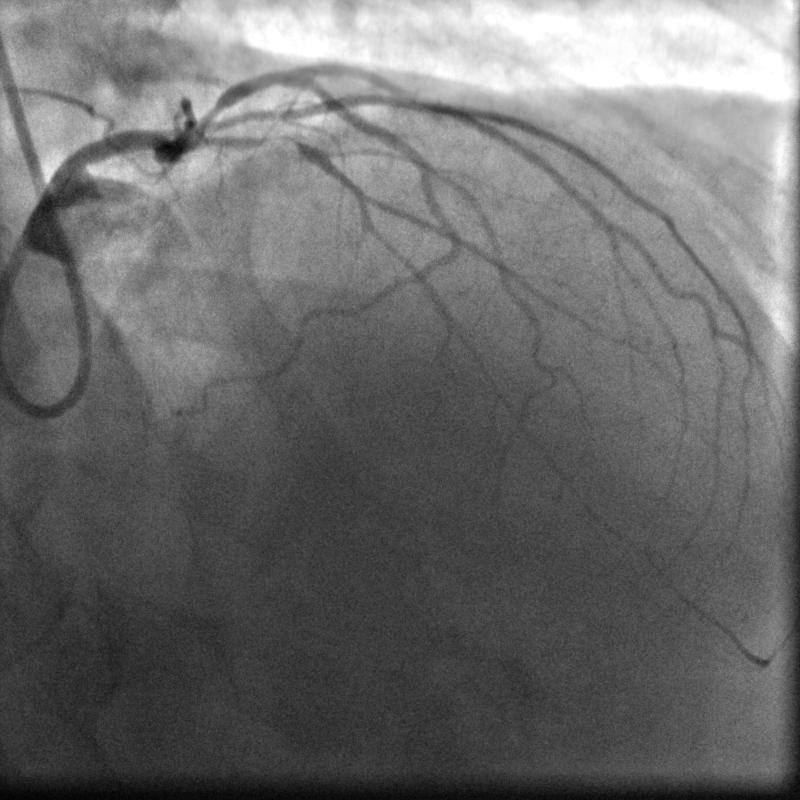Stenosis: (197, 96, 223, 132)
